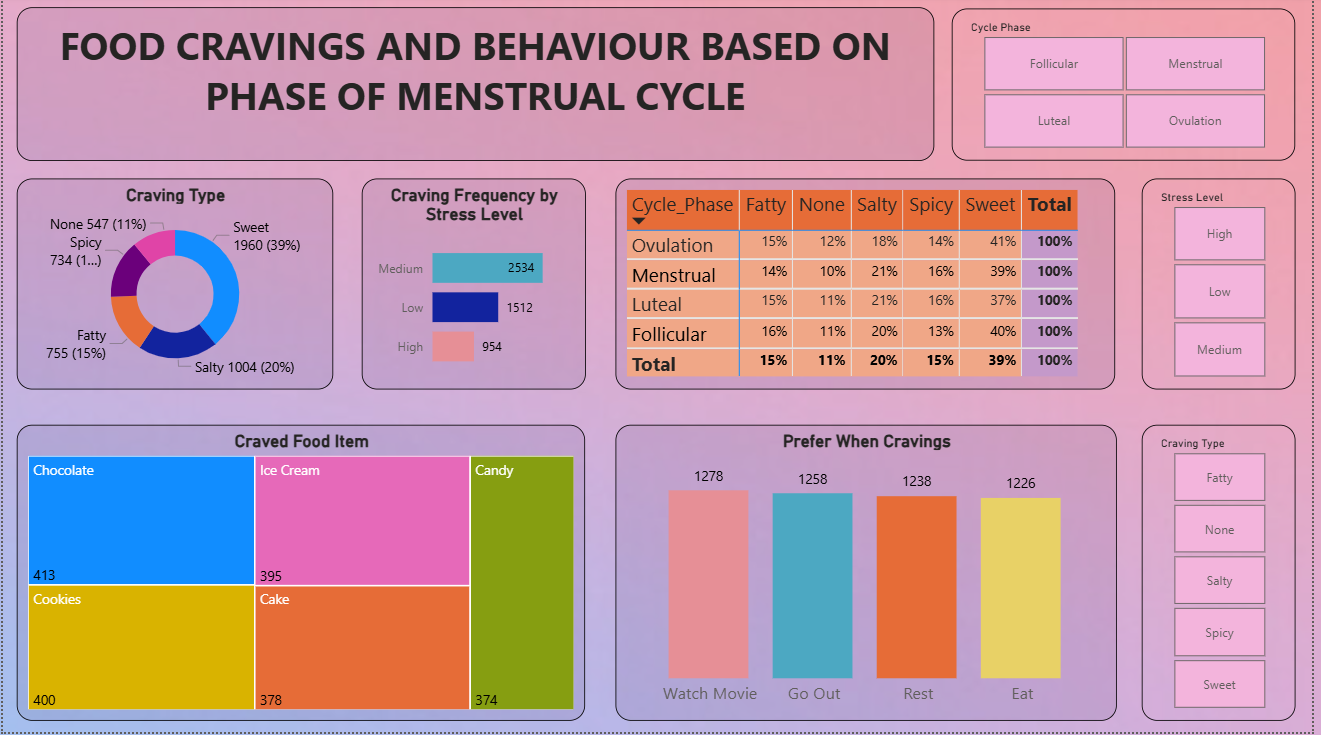

This screenshot's page, from the dashboard's own definition file:
{"tool":"powerbi","page":{"name":"Page 3","canvas":[1280,720],"ordinal":2},"visuals":[{"type":"columnChart","title":"Prefer When Cravings","fields":{"Category":["food_cravings_behavior.Preferred_Action_When_Craving"],"Y":["CountNonNull(food_cravings_behavior.Participant_ID)"]},"box":[599.2,419.4,490.4,289.8],"z":0},{"type":"treemap","title":"Craved Food Item","fields":{"Group":["food_cravings_behavior.Craved_Food_Item"],"Values":["CountNonNull(food_cravings_behavior.Craved_Food_Item)"]},"box":[13.5,419.4,556.4,289.8],"z":1000},{"type":"donutChart","title":" Craving Type","fields":{"Category":["food_cravings_behavior.Craving_Type"],"Y":["CountNonNull(food_cravings_behavior.Participant_ID)"]},"box":[13.5,178.5,309.4,206.7],"z":2000},{"type":"pivotTable","fields":{"Rows":["food_cravings_behavior.Cycle_Phase"],"Columns":["food_cravings_behavior.Craving_Type"],"Values":["Sum(food_cravings_behavior.Craving_Intensity)"]},"box":[599.2,178.5,489.1,206.7],"z":3000},{"type":"barChart","title":" Craving Frequency by Stress Level","fields":{"Category":["demographics_lifestyle.Stress_Level"],"Y":["CountNonNull(food_cravings_behavior.Craving_Frequency)"]},"box":[351,178.5,218.9,206.7],"z":4000},{"type":"slicer","fields":{"Values":["food_cravings_behavior.Cycle_Phase"]},"box":[928.1,12.2,336.3,149.2],"z":5000},{"type":"slicer","fields":{"Values":["food_cravings_behavior.Craving_Type"]},"box":[1114,419.4,150.4,289.8],"z":6000},{"type":"slicer","fields":{"Values":["demographics_lifestyle.Stress_Level"]},"box":[1114,178.5,150.4,206.7],"z":7000},{"type":"textbox","box":[13.5,11,897.6,150.4],"z":8000}]}

Visuals, with their boxes in screenshot pixels (x1, y1, x2, y2), scaled from the page's 1280x720 canvas onto the 1321x735 screenshot:
"Prefer When Cravings" columnChart: 618/428/1125/724
"Craved Food Item" treemap: 14/428/588/724
" Craving Type" donutChart: 14/182/333/393
pivotTable - food_cravings_behavior.Cycle_Phase x food_cravings_behavior.Craving_Type: 618/182/1123/393
" Craving Frequency by Stress Level" barChart: 362/182/588/393
slicer - food_cravings_behavior.Cycle_Phase: 958/12/1305/165
slicer - food_cravings_behavior.Craving_Type: 1150/428/1305/724
slicer - demographics_lifestyle.Stress_Level: 1150/182/1305/393
textbox: 14/11/940/165
